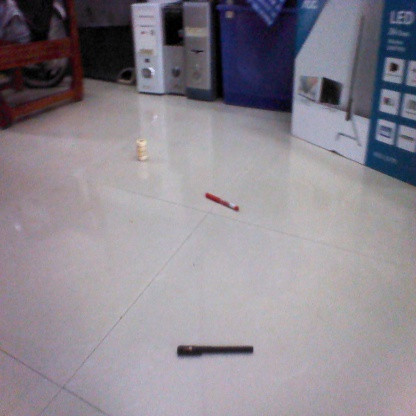chess: (133, 138, 152, 164)
pen: (176, 343, 257, 357), (203, 191, 241, 212)
